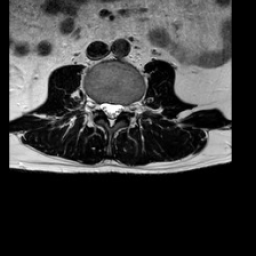CCS_normal: (107, 94, 115, 133)
LFS_normal: (123, 95, 131, 118)
LLS_normal: (115, 95, 123, 121)
RFS_normal: (92, 91, 99, 117)
RLS_normal: (99, 95, 107, 119)
